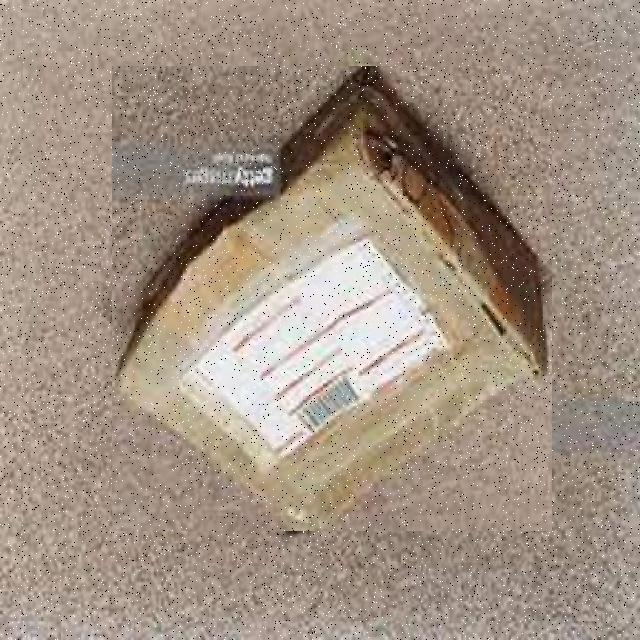normal: (112, 66, 552, 531)
